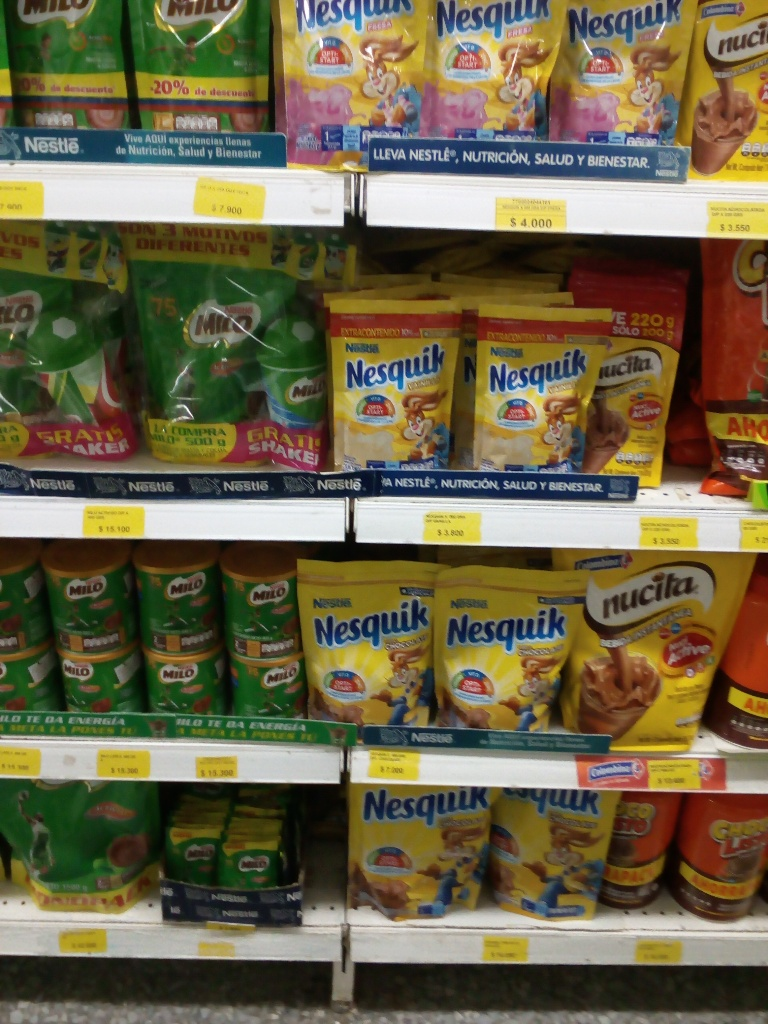COL0170103TRR00100: (597, 791, 683, 925)
COL0170203DYP25000: (8, 3, 128, 128)
COL0170203DYP50000: (132, 228, 263, 465)
COL0170203LAT40000: (221, 561, 295, 667)
COL0170305DYP20000: (277, 0, 425, 160)
